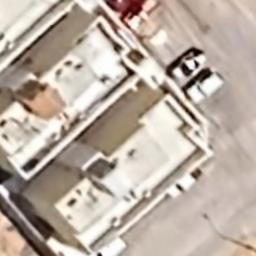SUV: (187, 72, 224, 105)
sedan: (167, 46, 206, 82)
